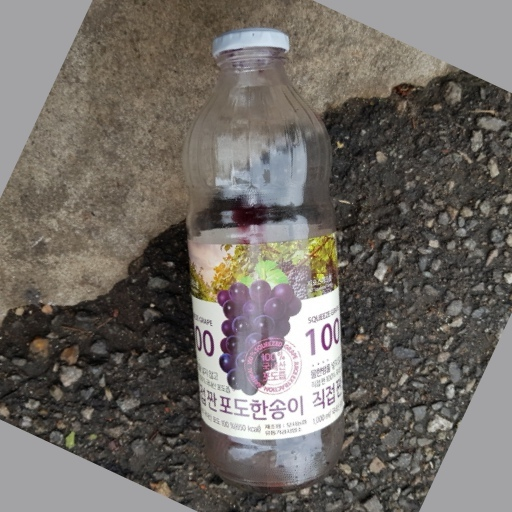Glass_4: (177, 28, 350, 490)
